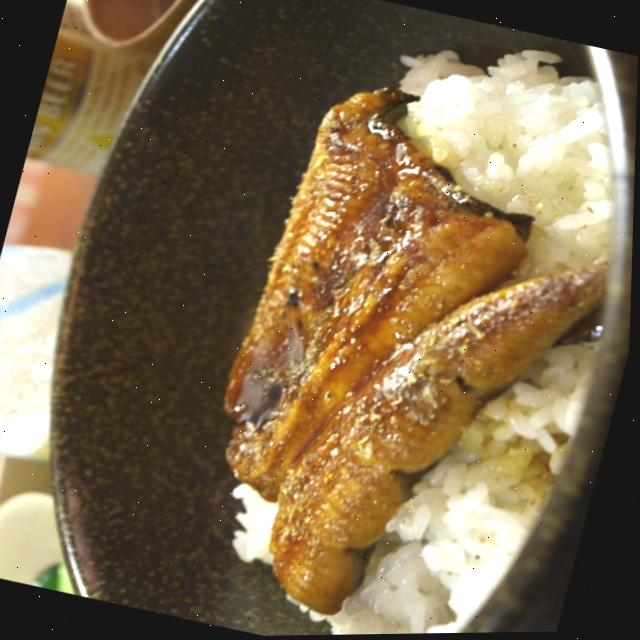熟制海鲜: (70, 0, 640, 639)
